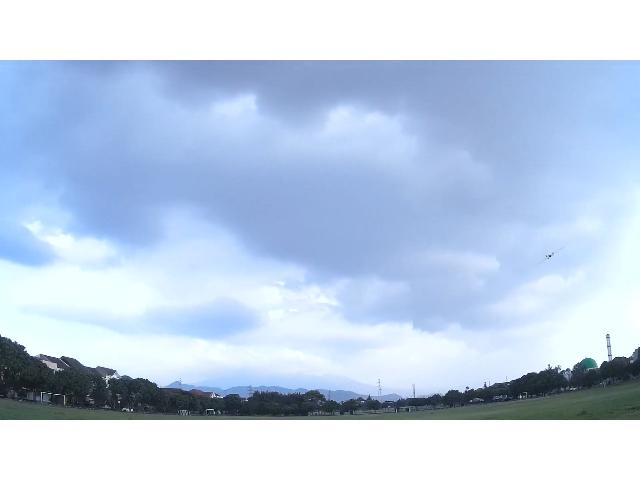Anti-Drone: (539, 246, 565, 264)
